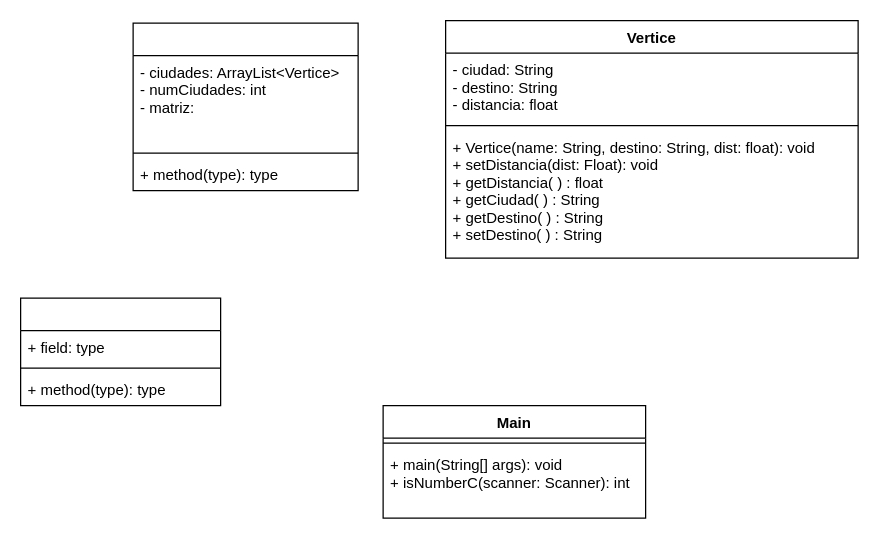
Some shapes in this 879 by 539 pixel diagram are drawn without their labels. Here are the shapes that lost their labels. From the top down, the box of each, then its label:
(132, 22, 358, 191): Floyd
(19, 297, 221, 406): FileManager
